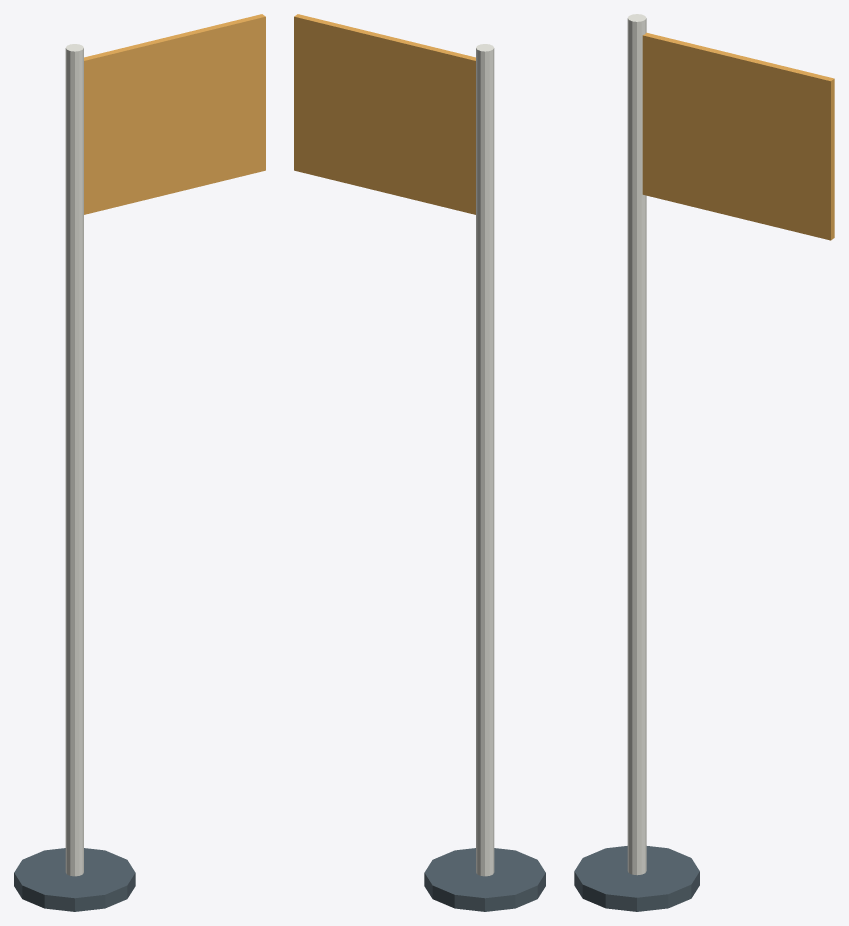
File: football-soccer-club-grounds-corner-flag-65953ad0.glb
The picture shows the model from 3 angles, left to right: view 1: azimuth 30°, elevation 25°; view 2: azimuth 150°, elevation 25°; view 3: azimuth 330°, elevation 25°; orthographic projection. The views are drawn at different scales.
Visible parts, largest first — view 1: corner-flag; view 2: corner-flag; view 3: corner-flag.
Part boxes in pixels (<box>): corner-flag: <box>14,14,265,911</box>; corner-flag: <box>294,14,545,911</box>; corner-flag: <box>574,14,834,911</box>.
Size of the model in its own units: 0.46 by 1.53 by 0.2.
